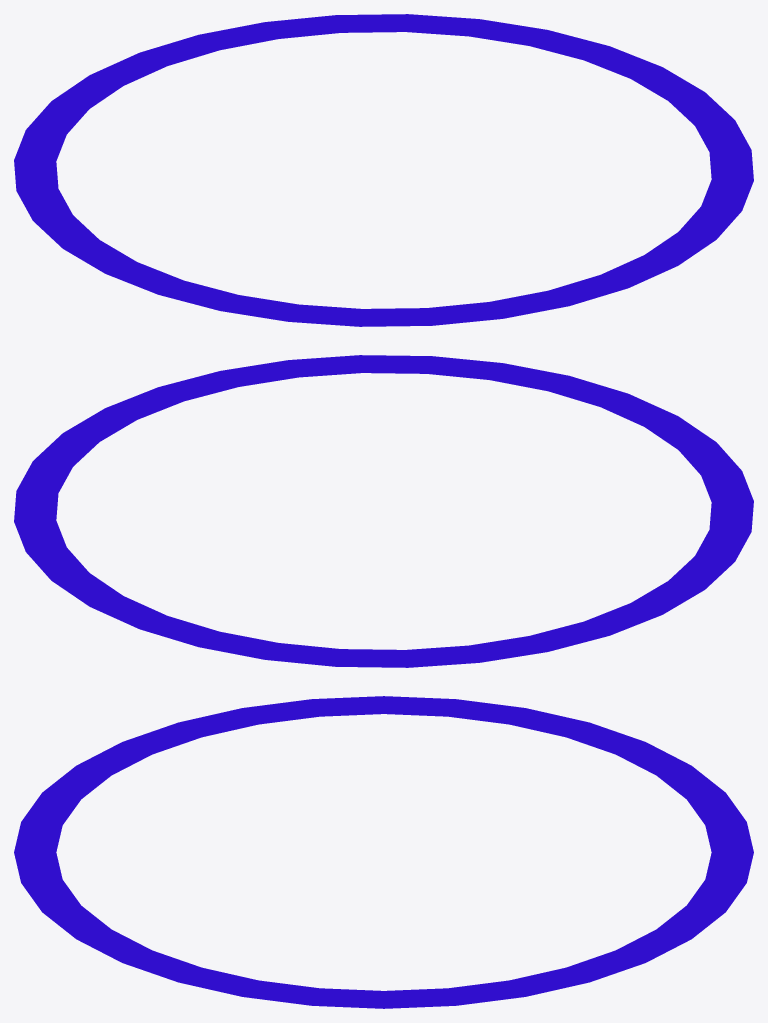
File: BlueIndicatorCircle.glb
The picture shows the model from 3 angles, top to bottom: view 1: azimuth 30°, elevation 25°; view 2: azimuth 150°, elevation 25°; view 3: azimuth 270°, elevation 25°; orthographic projection.
Parts seen in each view (by area): view 1: Circle; view 2: Circle; view 3: Circle.
Part boxes in pixels (x1,y1,x2,y2): Circle: (14, 14, 753, 326); Circle: (14, 355, 753, 667); Circle: (14, 696, 753, 1008).
Size of the model in its own units: 2 by 0 by 2.
